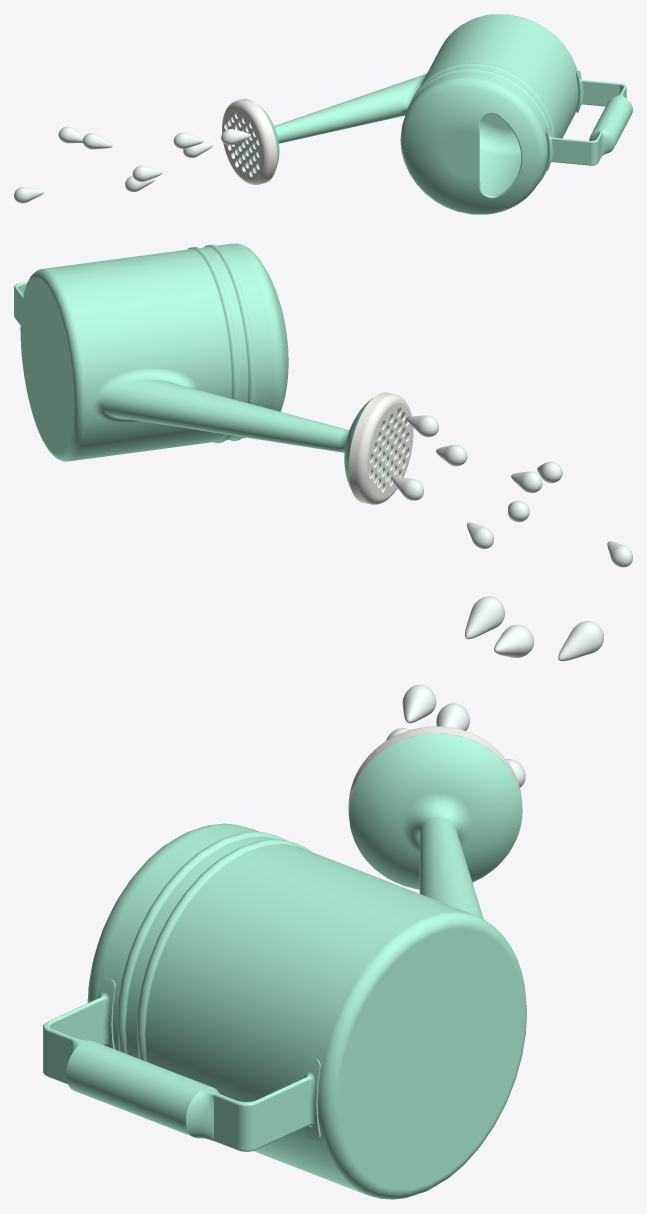
File: 澆花器 v3.fbx
The picture shows the model from 3 angles, top to bottom: view 1: azimuth 30°, elevation 25°; view 2: azimuth 150°, elevation 25°; view 3: azimuth 270°, elevation 25°; orthographic projection. The views are drawn at different scales.
Visible parts, largest first — view 1: Body2, Body3, Body108, Body112, Body105, Body106, Body110, Body111; view 2: Body2, Body3, Body107, Body110, Body109, Body106, Body105, Body112; view 3: Body2, Body3, Body111, Body108, Body106, Body112.
Part boxes in pixels (box(x1,y1,x2,y2)): Body2: box(233, 14, 632, 214); Body3: box(222, 98, 277, 184); Body108: box(82, 133, 112, 149); Body112: box(14, 187, 44, 203); Body105: box(173, 132, 203, 148); Body106: box(132, 165, 162, 181); Body110: box(221, 129, 250, 145); Body111: box(58, 126, 84, 143); Body2: box(14, 243, 398, 491); Body3: box(348, 392, 413, 504); Body107: box(392, 477, 423, 500); Body110: box(407, 415, 438, 437); Body109: box(467, 522, 493, 548); Body106: box(511, 471, 542, 492); Body105: box(436, 444, 467, 466); Body112: box(607, 541, 632, 567); Body2: box(43, 733, 526, 1199); Body3: box(348, 726, 522, 888); Body111: box(558, 621, 603, 661); Body108: box(465, 596, 504, 639); Body106: box(402, 684, 436, 723); Body112: box(494, 624, 533, 657).
Size of the model in its own units: 469 by 114 by 210.
